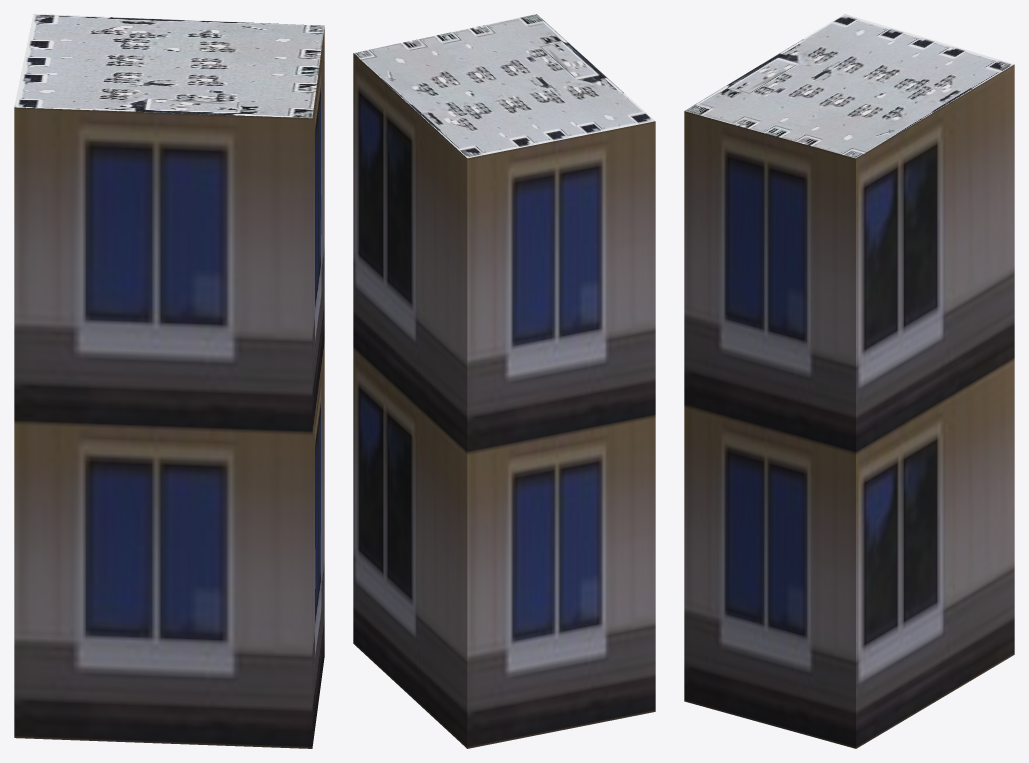
The model's file is ResTex__310.fbx.
3 views of the same model, side by side, from view 1: azimuth 30°, elevation 25°; view 2: azimuth 150°, elevation 25°; view 3: azimuth 270°, elevation 25° (orthographic). The views are drawn at different scales.
Parts seen in each view (by area): view 1: CityEngineMaterial_5_m, CityEngineMaterial_2_m; view 2: CityEngineMaterial_5_m, CityEngineMaterial_2_m; view 3: CityEngineMaterial_5_m, CityEngineMaterial_2_m.
Part boxes in pixels (x1=…): CityEngineMaterial_5_m: x1=14, y1=27, x2=324, y2=748; CityEngineMaterial_2_m: x1=14, y1=14, x2=324, y2=118; CityEngineMaterial_5_m: x1=353, y1=53, x2=655, y2=748; CityEngineMaterial_2_m: x1=353, y1=14, x2=654, y2=158; CityEngineMaterial_5_m: x1=684, y1=64, x2=1014, y2=748; CityEngineMaterial_2_m: x1=685, y1=14, x2=1014, y2=158.
Size of the model in its own units: 3.15 by 6 by 3.05.
Materials: 2 (2 with a texture image).
